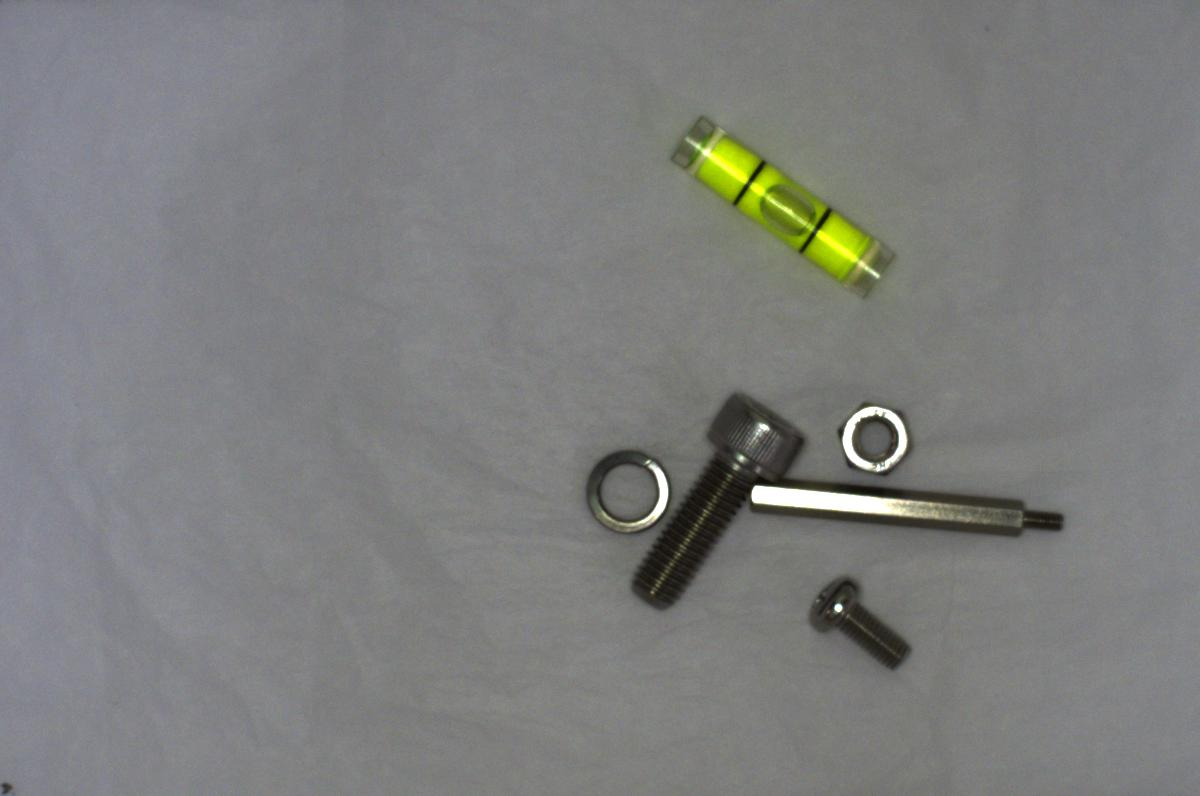Hexagon nut: (820, 390, 925, 480)
Hexagon screw: (620, 398, 814, 615)
Hexagonal steel column: (744, 471, 1071, 542)
Horizontal bubble: (661, 109, 900, 303)
Round head screw: (789, 567, 925, 676)
Spring washer: (583, 442, 678, 539)
